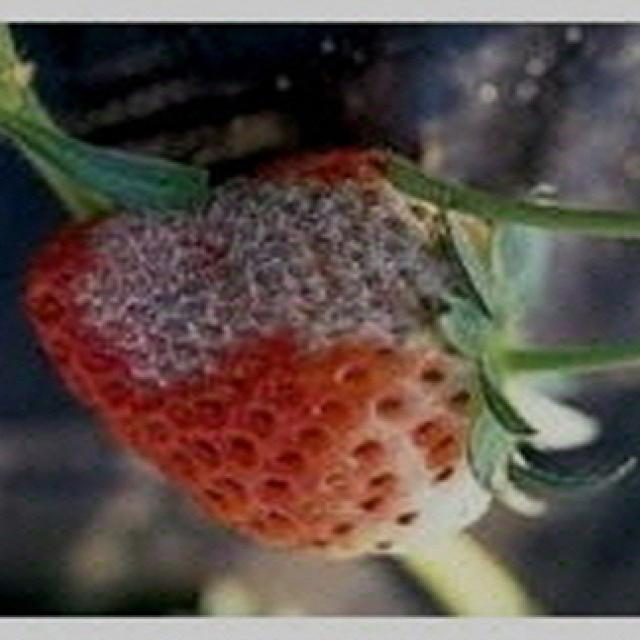Gray Mold: (62, 153, 496, 403)
